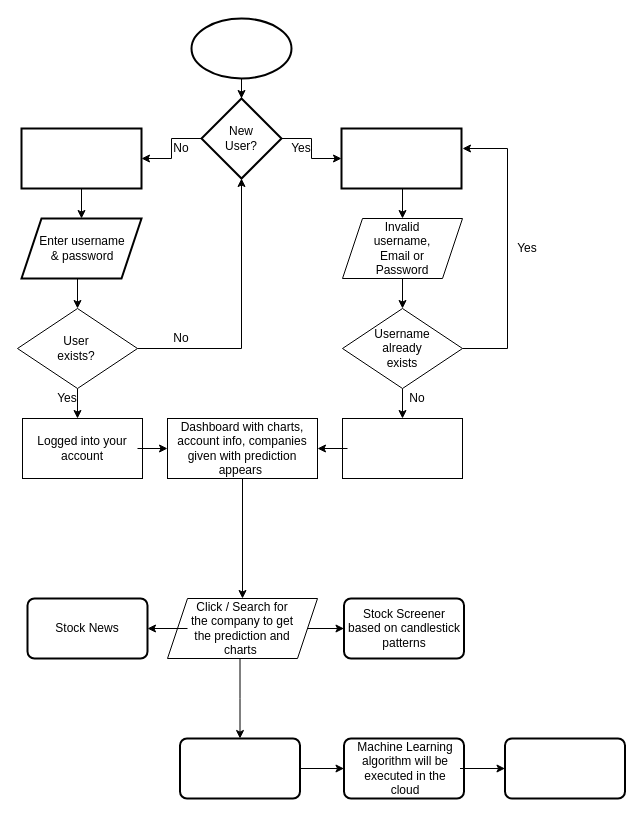
This 643x816 diagram has some shape labels left out. The centre of each missing label's shape, as x and y in pixels:
"Create an account" belongs at [401,158].
"Login" belongs at [81,158].
"Registration Successful" belongs at [402,448].
"Start" belongs at [241,48].
"The output chart will be displayed in the webpage" belongs at [565,768].
"The request is sent to the cloud" belongs at [239,768].
